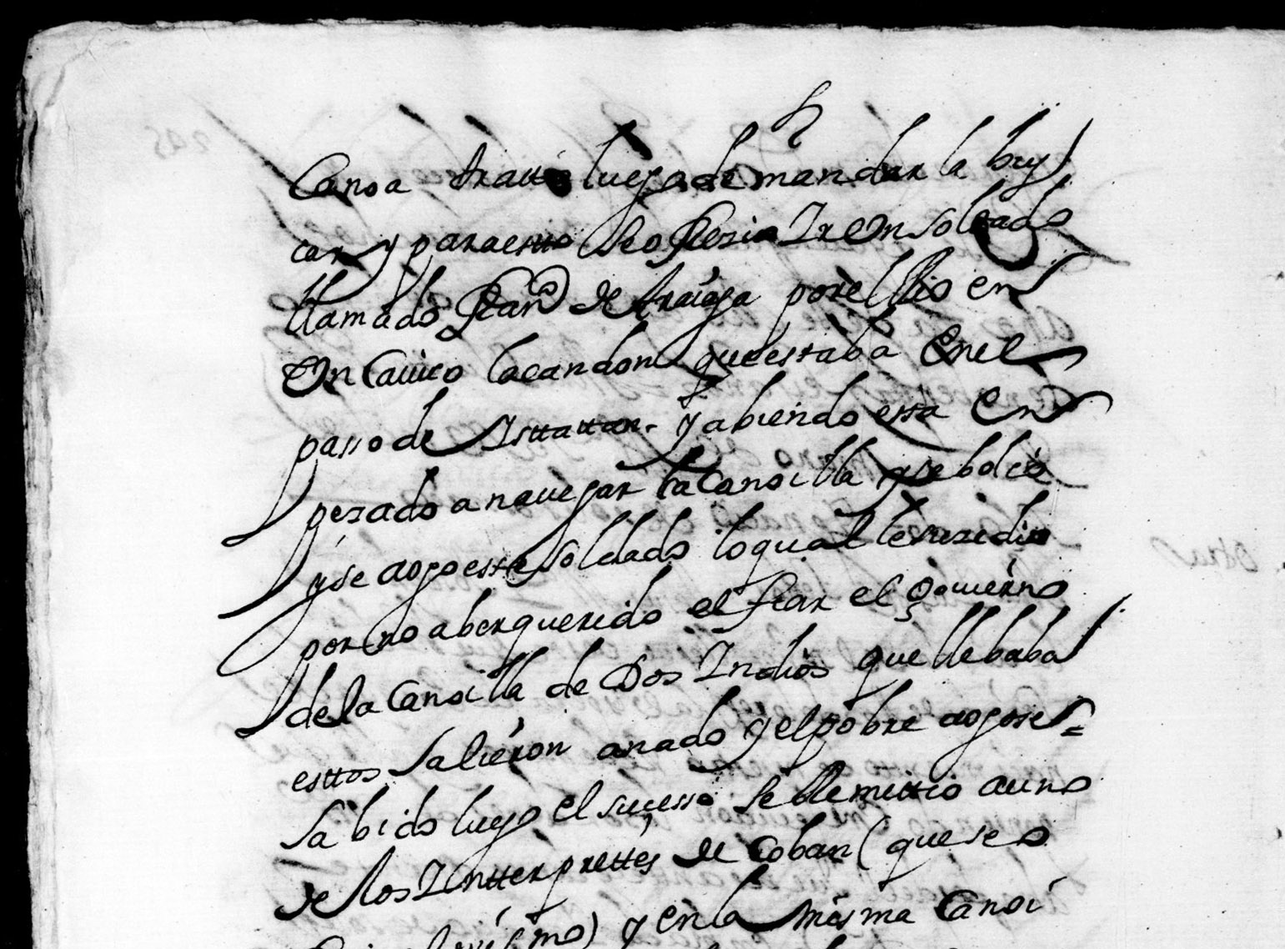lacandon: (487, 319, 653, 384)
